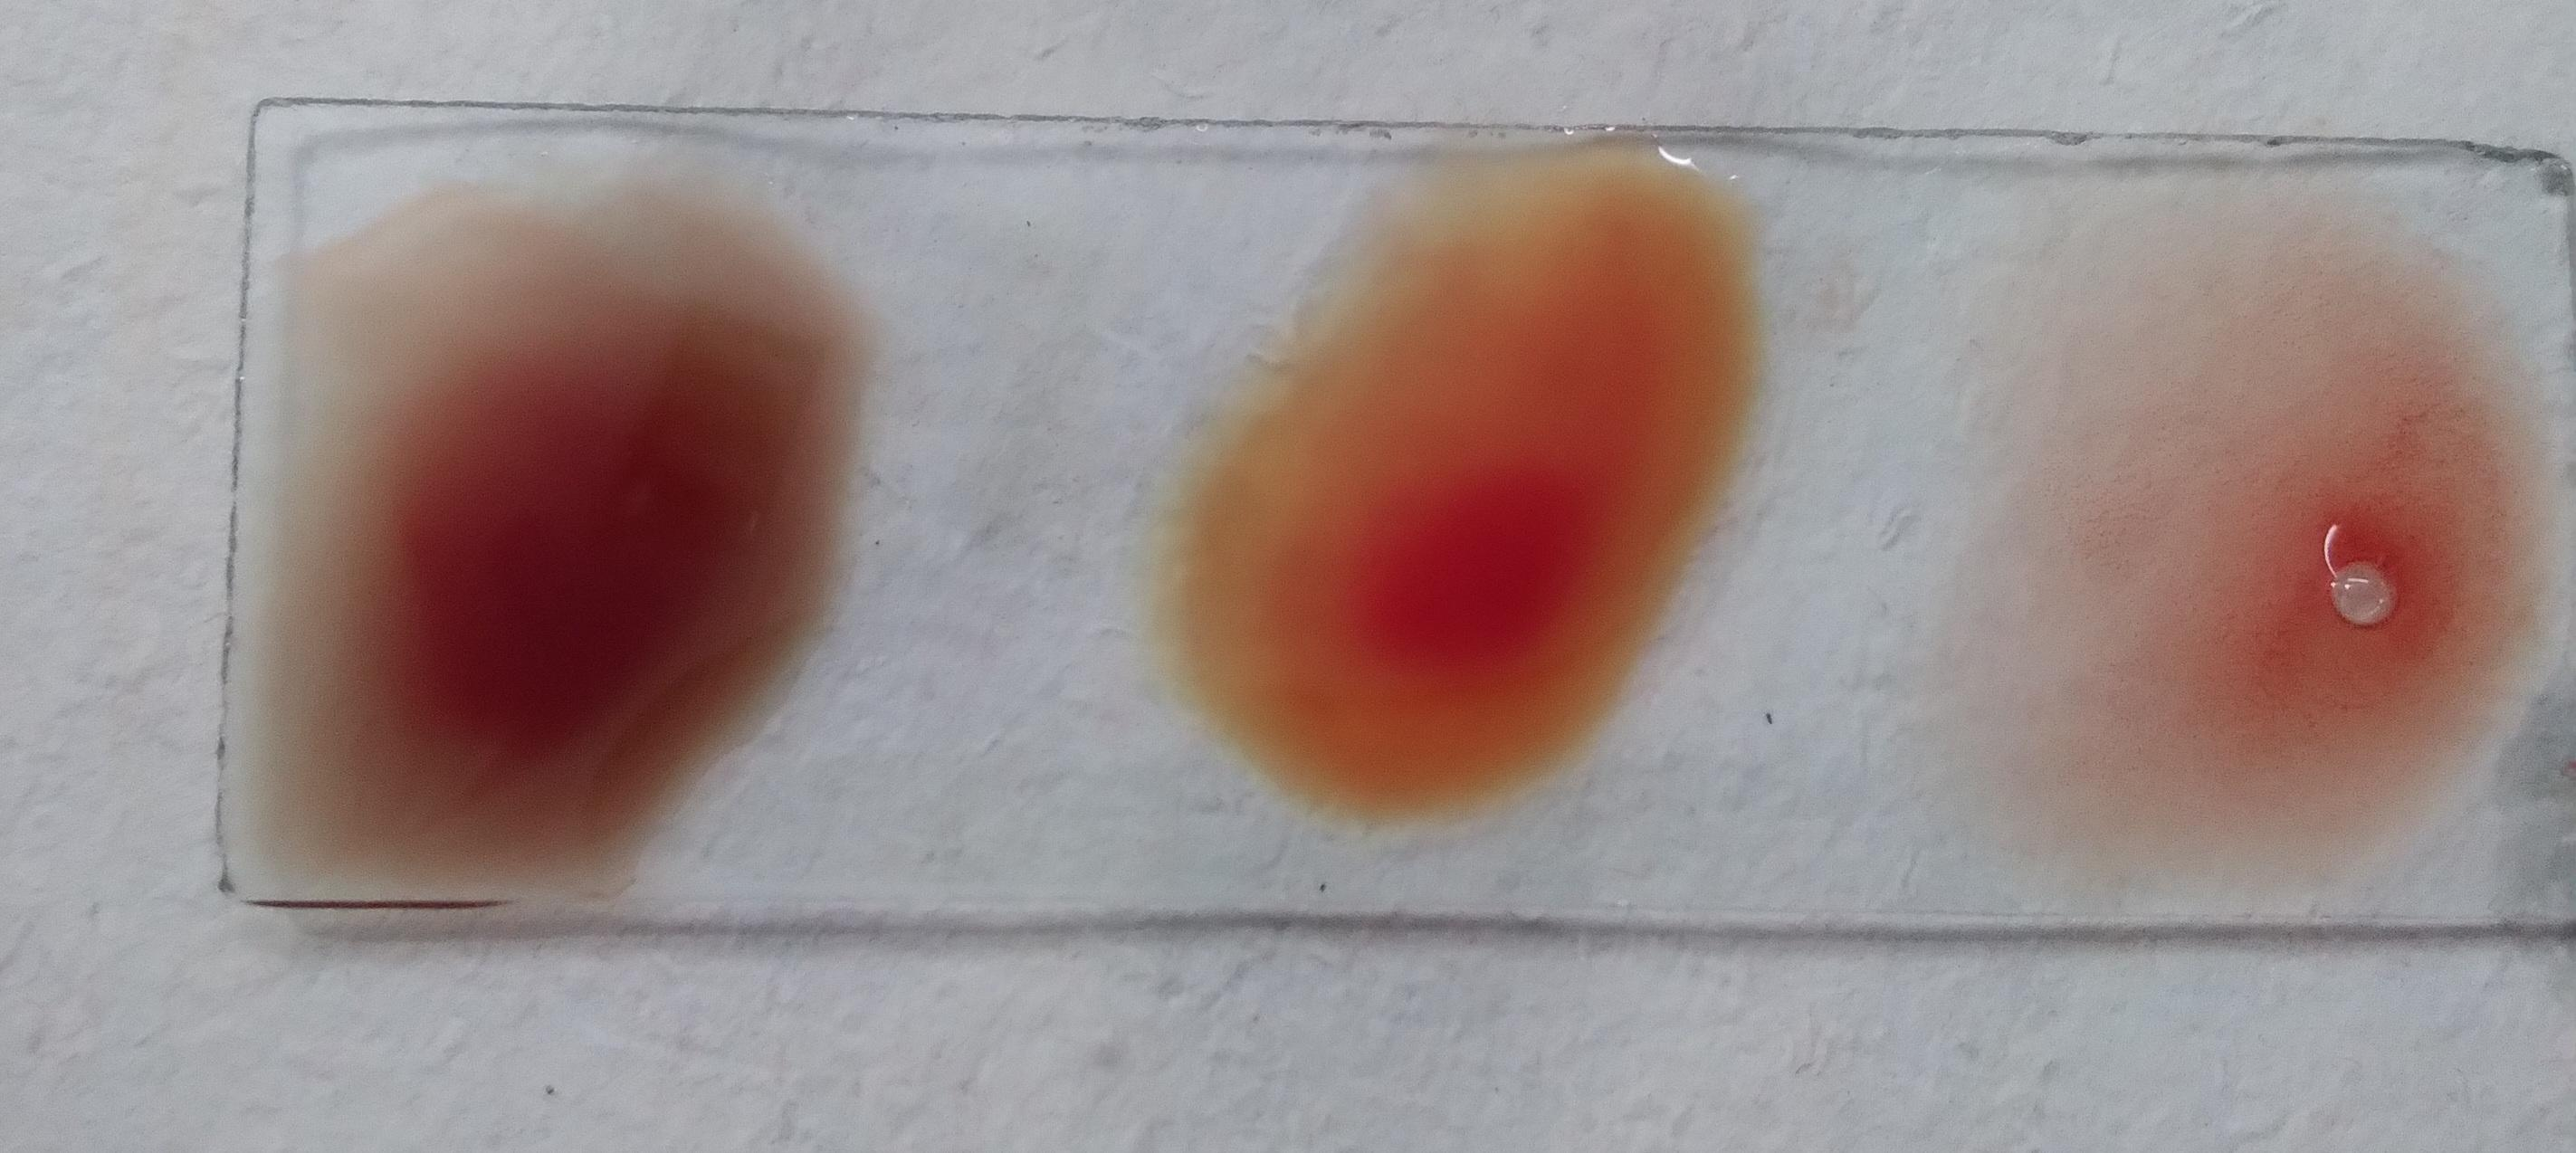D: (2078, 245, 2509, 818)
